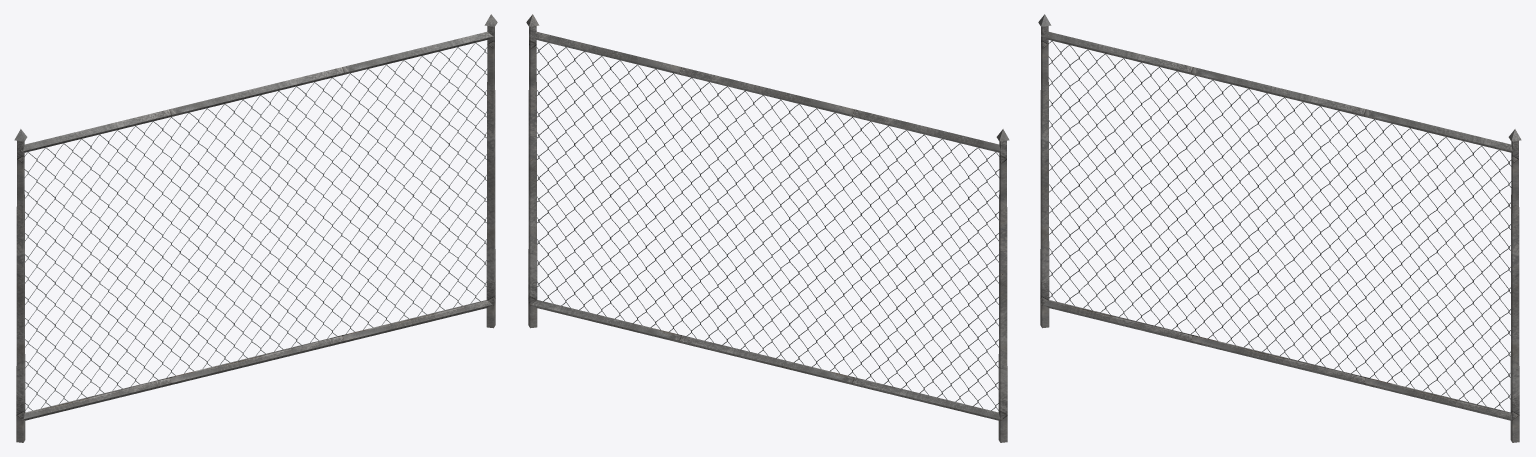
The model's file is Fence.fbx.
The picture shows the model from 3 angles, left to right: view 1: azimuth 30°, elevation 25°; view 2: azimuth 150°, elevation 25°; view 3: azimuth 330°, elevation 25°; orthographic projection.
Visible parts, largest first — view 1: Fence; view 2: Fence; view 3: Fence.
Boxes of the visible parts, box(x1,y1,x2,y2) form: Fence: box(14, 14, 497, 442); Fence: box(526, 14, 1009, 442); Fence: box(1038, 14, 1521, 442).
Bounding box in the file's own units: 389 × 240 × 10.67.
